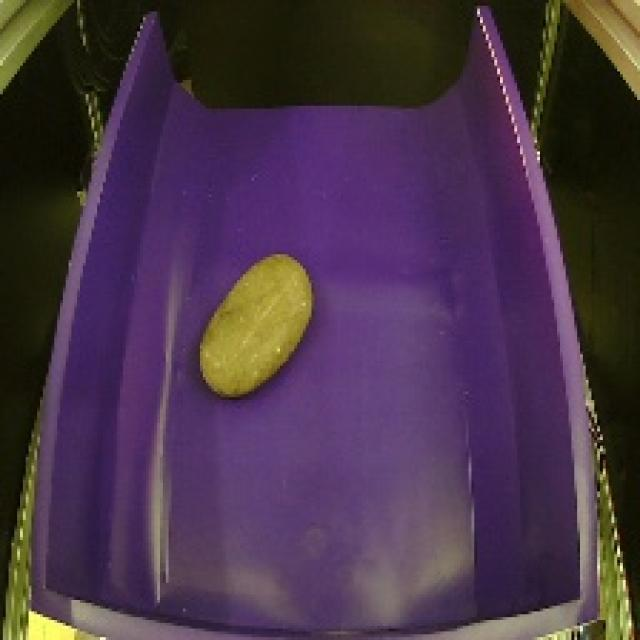cobbles: (185, 237, 320, 402)
